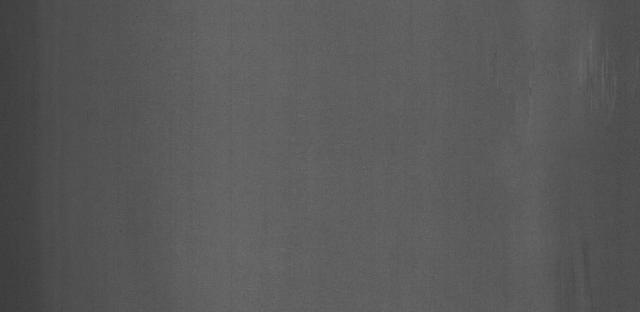silk_spot: (538, 35, 635, 104), (540, 219, 614, 298)
